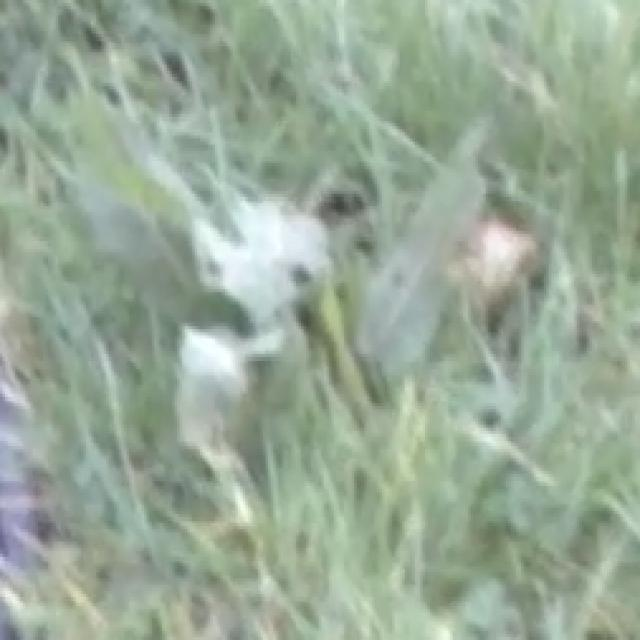organic waste: (75, 65, 556, 480)
